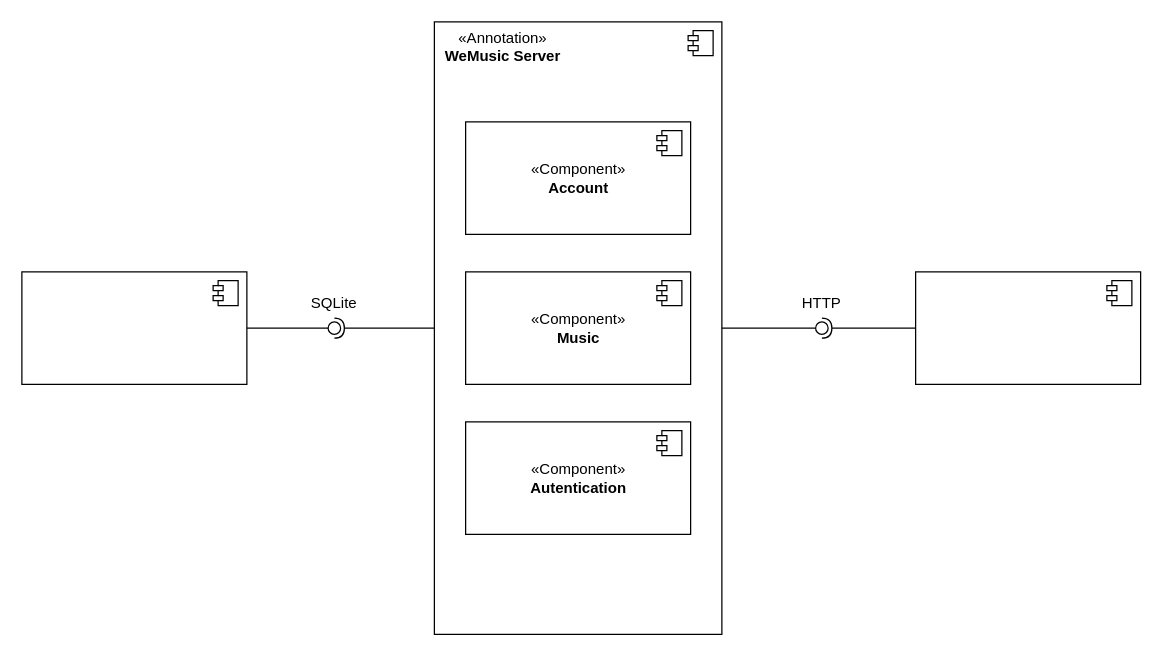
The diagram is 1163 pixels wide and 656 high, and some of its shapes have lost their labels. Each missing label, with the centre of its shape:
"«Component» FrontEnd" belongs at point (1027, 327).
"«subsystem» Database" belongs at point (134, 327).
